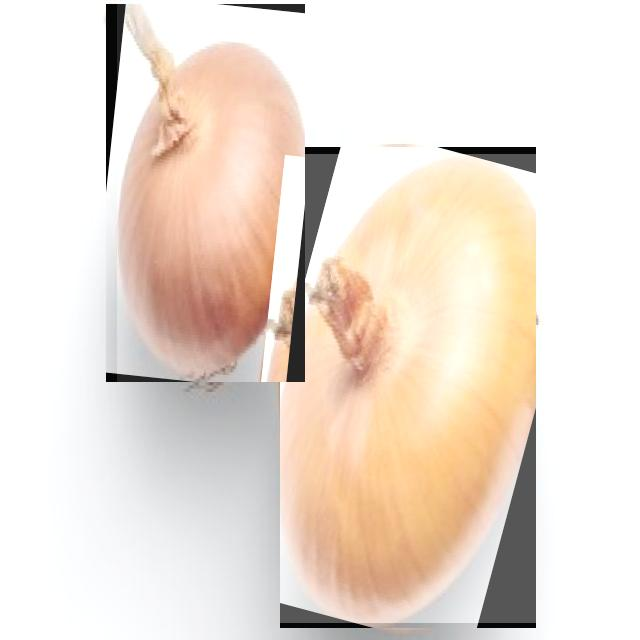healthy: (280, 154, 536, 623), (118, 4, 305, 382)
